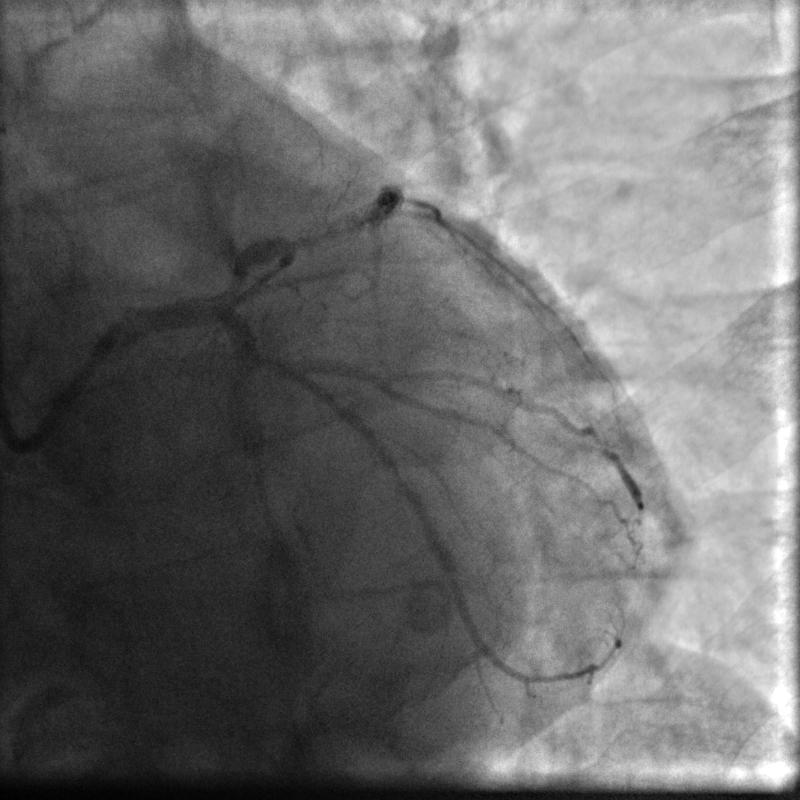Stenosis: (212, 250, 259, 309)
